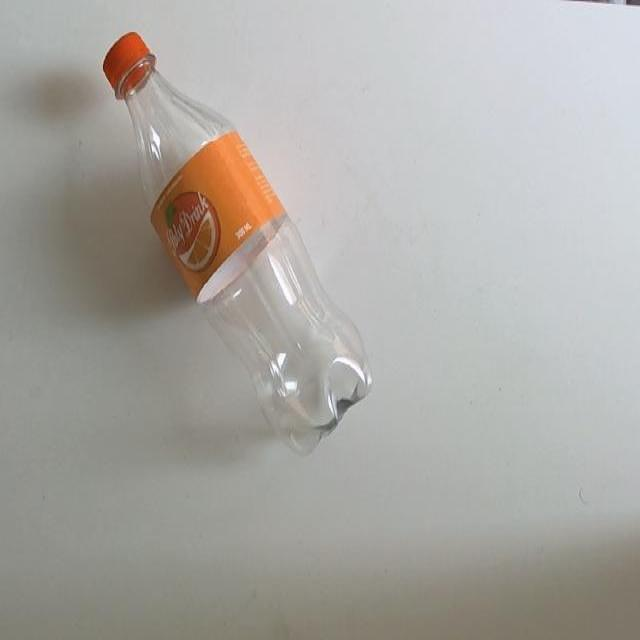non-defect: (102, 29, 375, 459)
